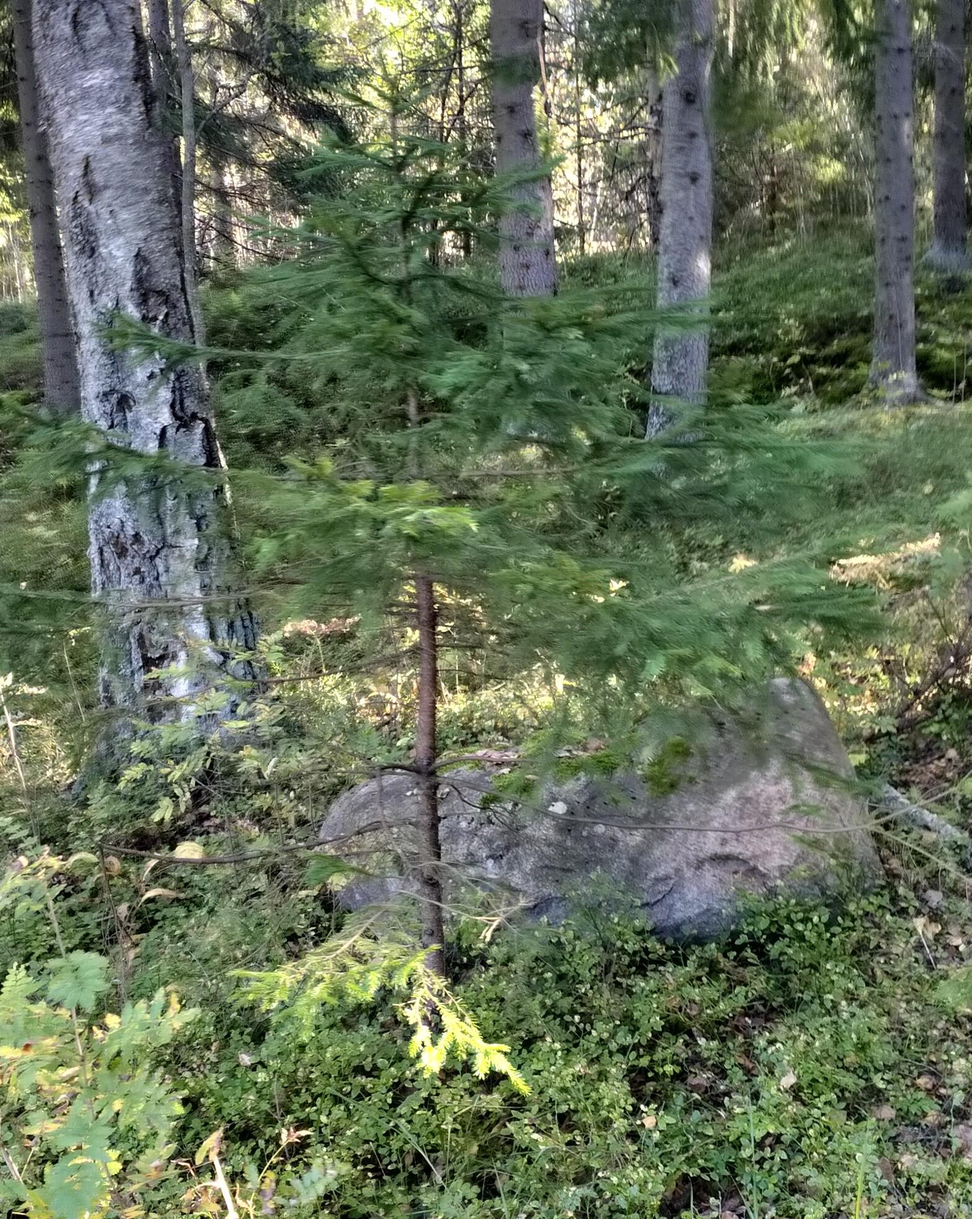Spruce: (237, 274, 678, 977)
